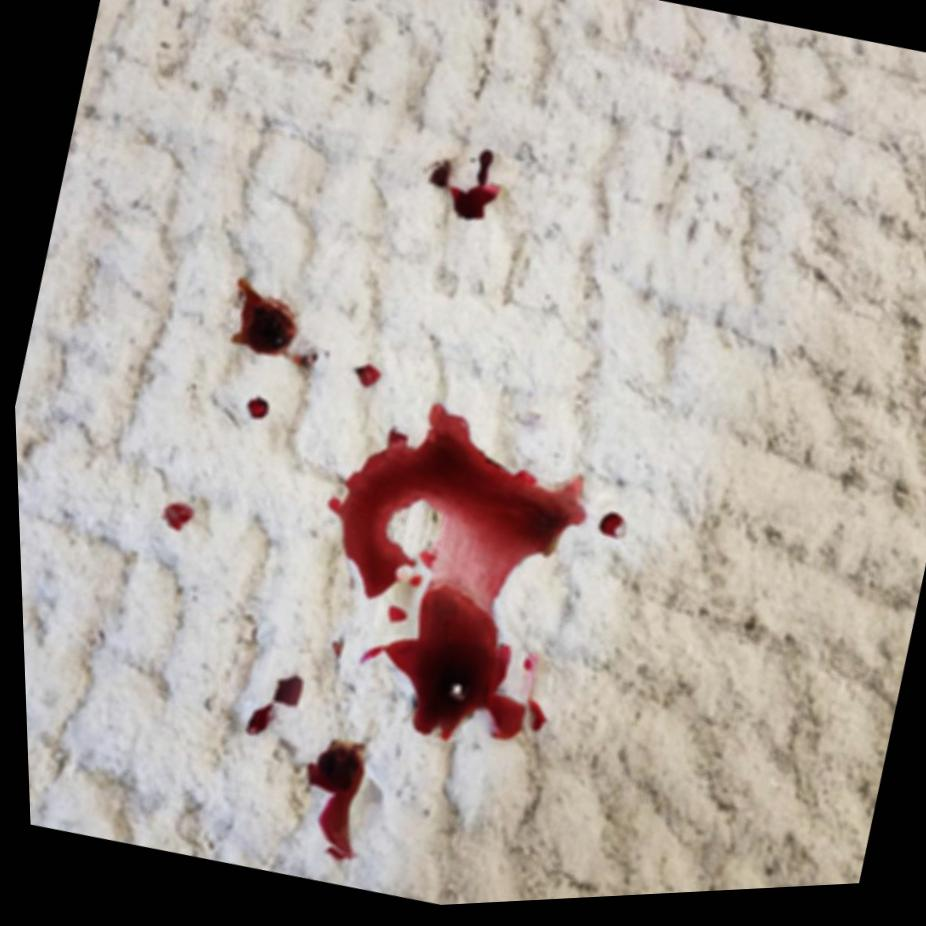Fire: (324, 406, 583, 746), (300, 743, 360, 863), (229, 279, 294, 359), (448, 155, 500, 225), (267, 678, 299, 711), (241, 704, 270, 738), (426, 163, 454, 192), (351, 368, 379, 391), (596, 519, 620, 545), (245, 398, 267, 422)
